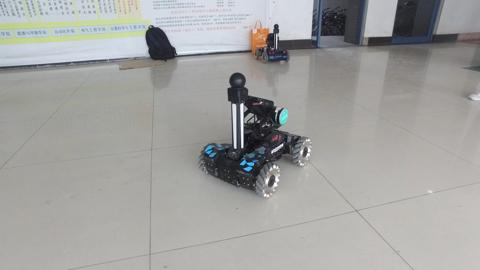bag: (144, 23, 180, 63), (249, 18, 271, 48)
chariot: (197, 71, 312, 199), (253, 23, 291, 64)
